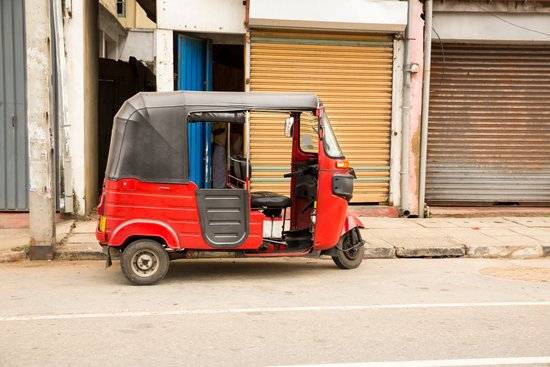threewheel: (96, 91, 367, 286)
